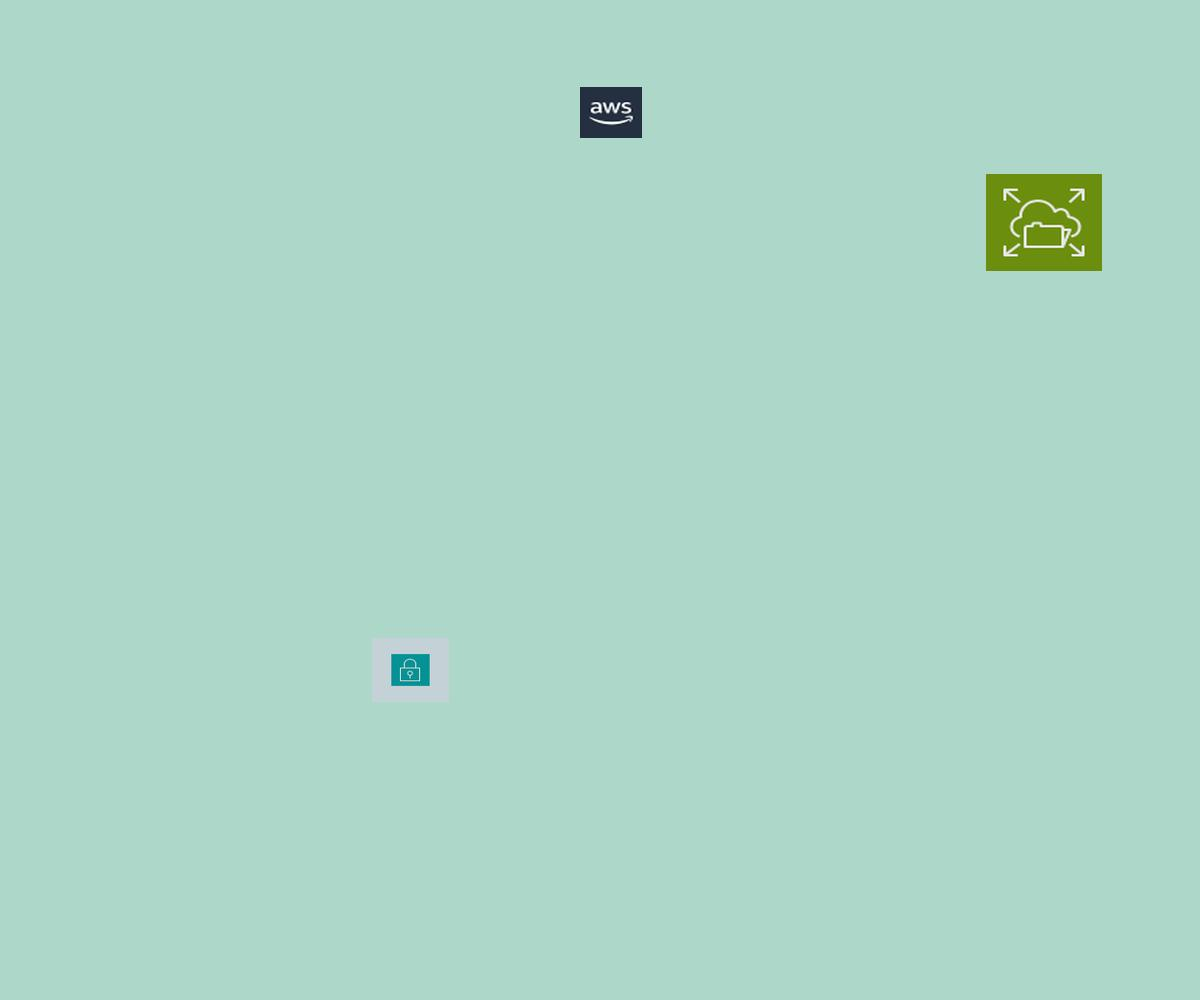AWS-Cloud-logo: (580, 87, 642, 138)
AWS-EFS: (986, 174, 1102, 271)
AWS-Private-subnet: (372, 638, 449, 702)
